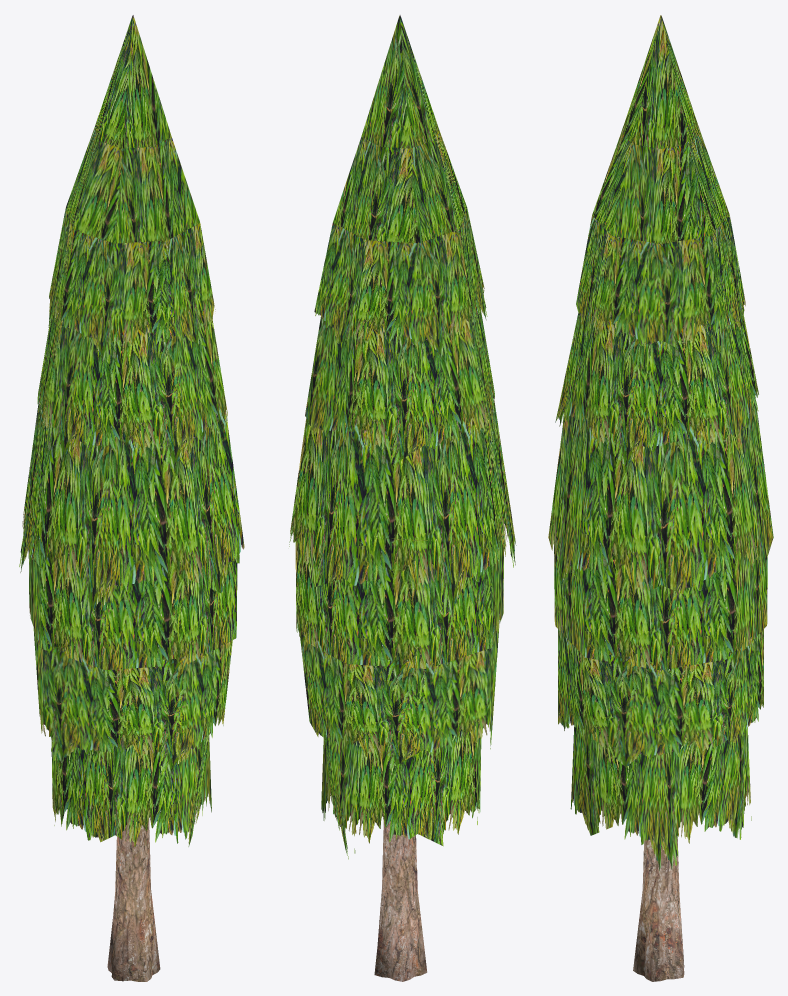
Rendered from mast_tree.fbx.
The picture shows the model from 3 angles, left to right: view 1: azimuth 30°, elevation 25°; view 2: azimuth 150°, elevation 25°; view 3: azimuth 270°, elevation 25°; orthographic projection.
Parts seen in each view (by area): view 1: mast_LOD0; view 2: mast_LOD0; view 3: mast_LOD0.
Part boxes in pixels (x1=…): mast_LOD0: x1=19, y1=15, x2=244, y2=981; mast_LOD0: x1=289, y1=15, x2=516, y2=981; mast_LOD0: x1=548, y1=15, x2=773, y2=981.
Size of what is drawn, in the model's own units: 138 by 648 by 138.
